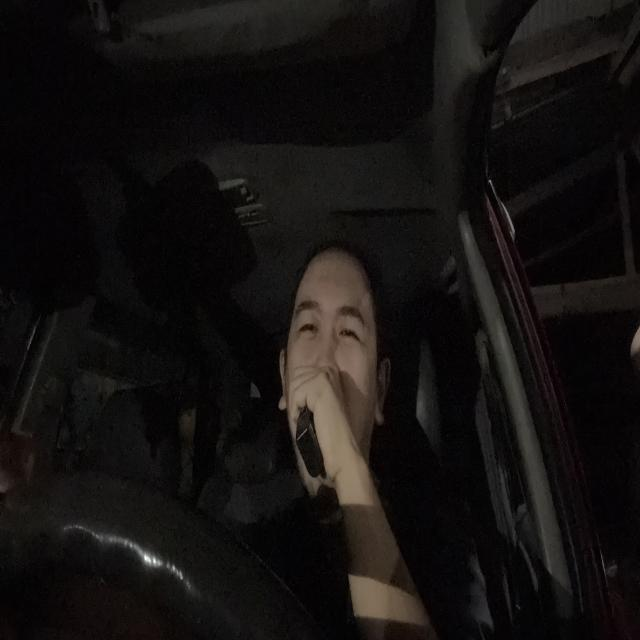open: (333, 303, 368, 354), (293, 297, 323, 349)
